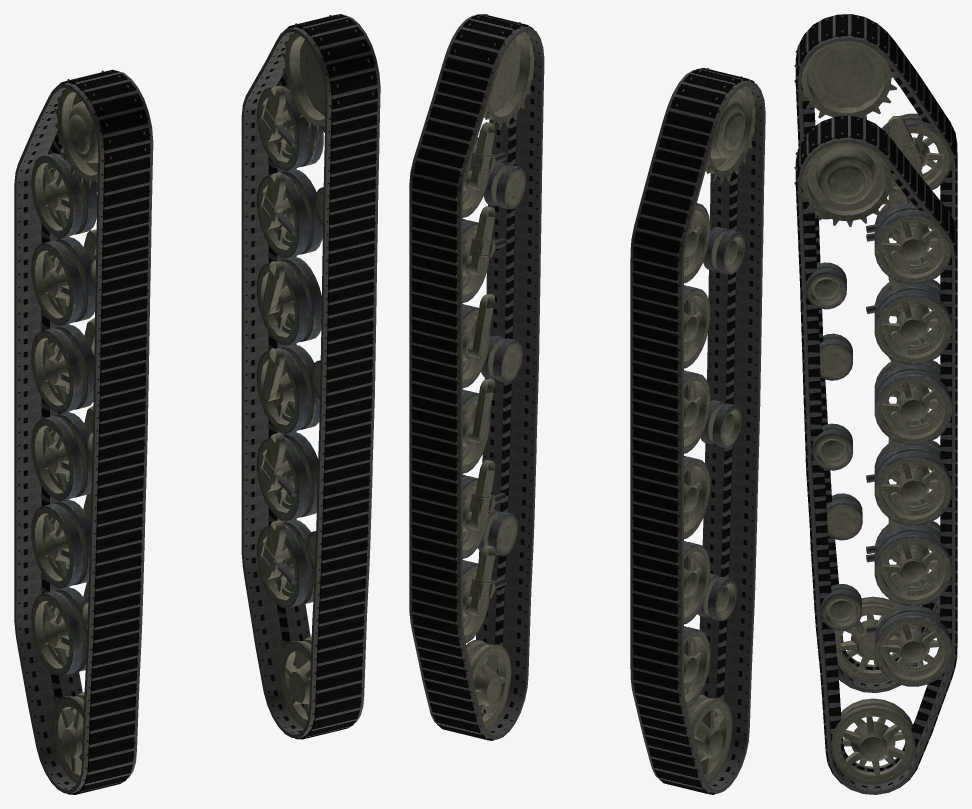
The model's file is Chassis.glb.
3 renders of one model, left to right at view 1: azimuth 30°, elevation 25°; view 2: azimuth 150°, elevation 25°; view 3: azimuth 270°, elevation 25°, orthographic. The views are drawn at different scales.
Visible parts, largest first — view 1: set_1_group_0, set_0_group_0, set_2_group_0, set_3_group_0; view 2: set_1_group_0, set_0_group_0, set_3_group_0, set_2_group_0; view 3: set_3_group_0, set_0_group_0, set_2_group_0, set_1_group_0.
Boxes of the visible parts, x1,y1,x2,y2 form: set_1_group_0: [14, 69, 153, 794]; set_0_group_0: [241, 14, 380, 739]; set_2_group_0: [31, 70, 145, 783]; set_3_group_0: [257, 15, 373, 728]; set_1_group_0: [630, 68, 765, 794]; set_0_group_0: [409, 14, 544, 740]; set_3_group_0: [454, 14, 534, 729]; set_2_group_0: [676, 68, 755, 783]; set_3_group_0: [794, 117, 951, 784]; set_0_group_0: [795, 115, 957, 794]; set_2_group_0: [794, 15, 951, 682]; set_1_group_0: [795, 14, 957, 692].
Size of the model in its own units: 2.35 by 5.75 by 1.29.
4 materials, 4 textured.
